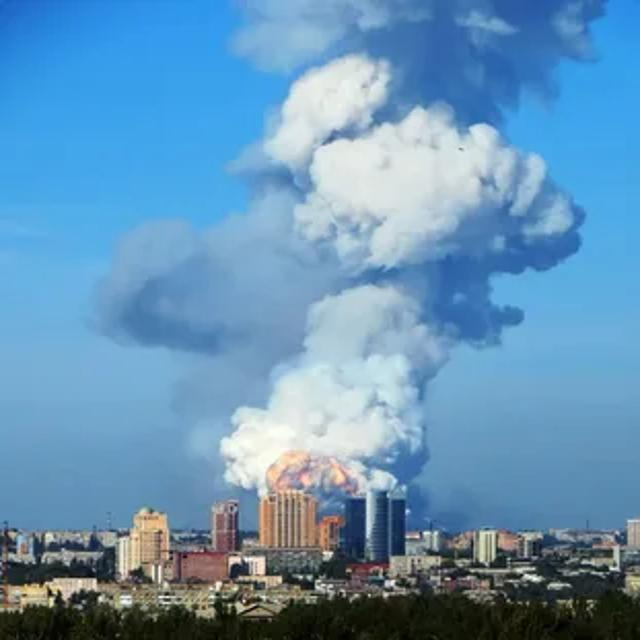Smoke: (232, 1, 590, 483)
